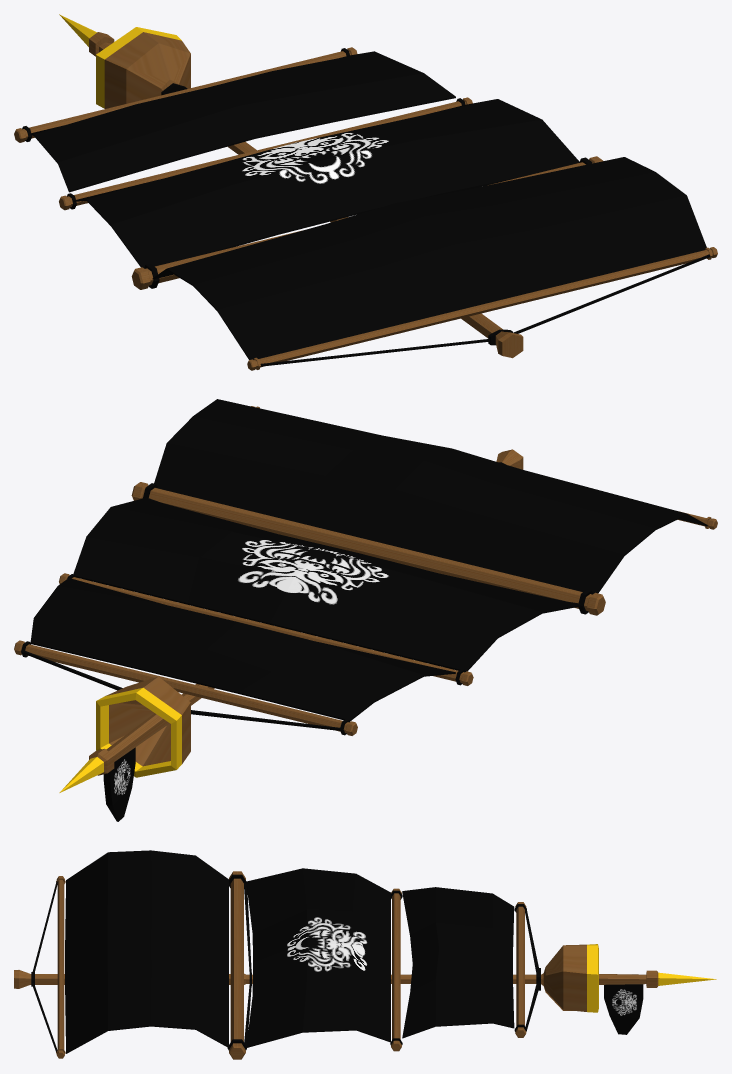
Rendered from sail_a_23.fbx.
The picture shows the model from 3 angles, top to bottom: view 1: azimuth 30°, elevation 25°; view 2: azimuth 150°, elevation 25°; view 3: azimuth 270°, elevation 25°; orthographic projection. The views are drawn at different scales.
Parts seen in each view (by area): view 1: Cube.218; view 2: Cube.218; view 3: Cube.218.
Boxes of the visible parts, x1,y1,x2,y2 form: Cube.218: (14, 14, 717, 370); Cube.218: (14, 399, 717, 821); Cube.218: (14, 850, 716, 1059).
Bounding box in the file's own units: 221 × 61.47 × 371.
